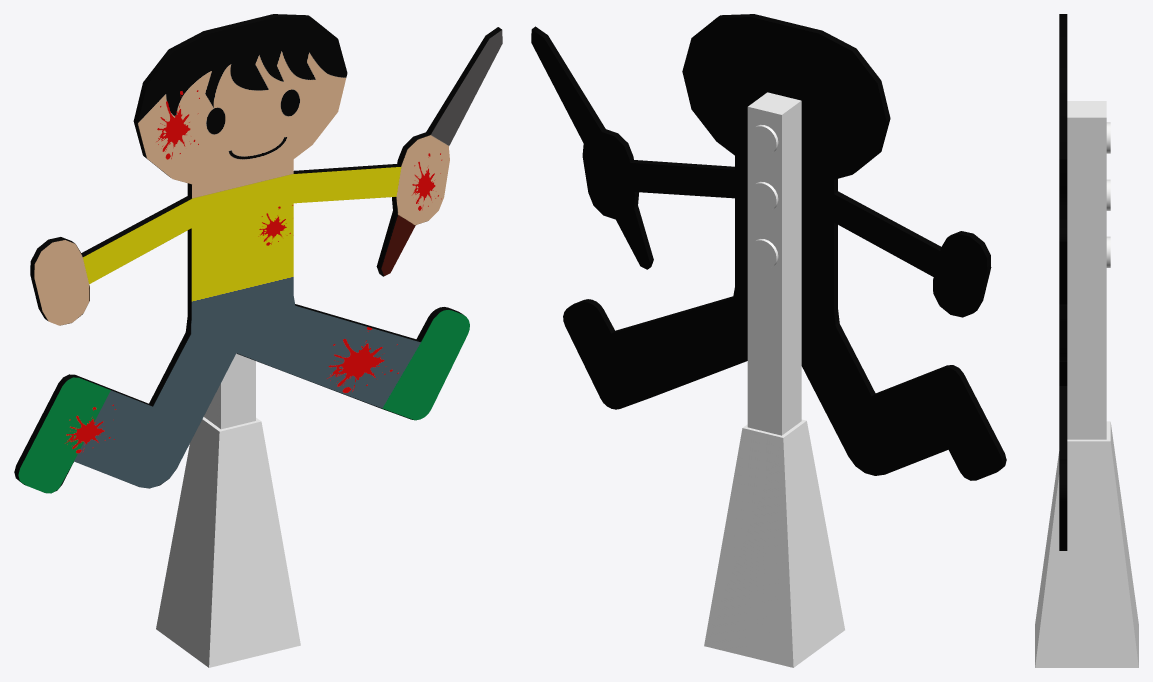
Rendered from Enemy_Kanban.fbx.
3 views of the same model, side by side, from view 1: azimuth 30°, elevation 25°; view 2: azimuth 150°, elevation 25°; view 3: azimuth 270°, elevation 25° (orthographic). The views are drawn at different scales.
Parts seen in each view (by area): view 1: pCube3, pCube6; view 2: pCube3, pCube6, pCylinder4; view 3: pCube6, pCube3, pCylinder4.
Boxes of the visible parts, x1,y1,x2,y2 form: pCube3: (14,14,502,493); pCube6: (156,353,300,667); pCube3: (531,14,1006,480); pCube6: (704,92,844,667); pCylinder4: (749,124,778,269); pCube6: (1035,101,1138,667); pCube3: (1059,14,1067,550); pCylinder4: (1106,122,1110,267).
Size of the model in its own units: 69.24 by 85 by 13.14.
Materials: 3 (1 with a texture image).
